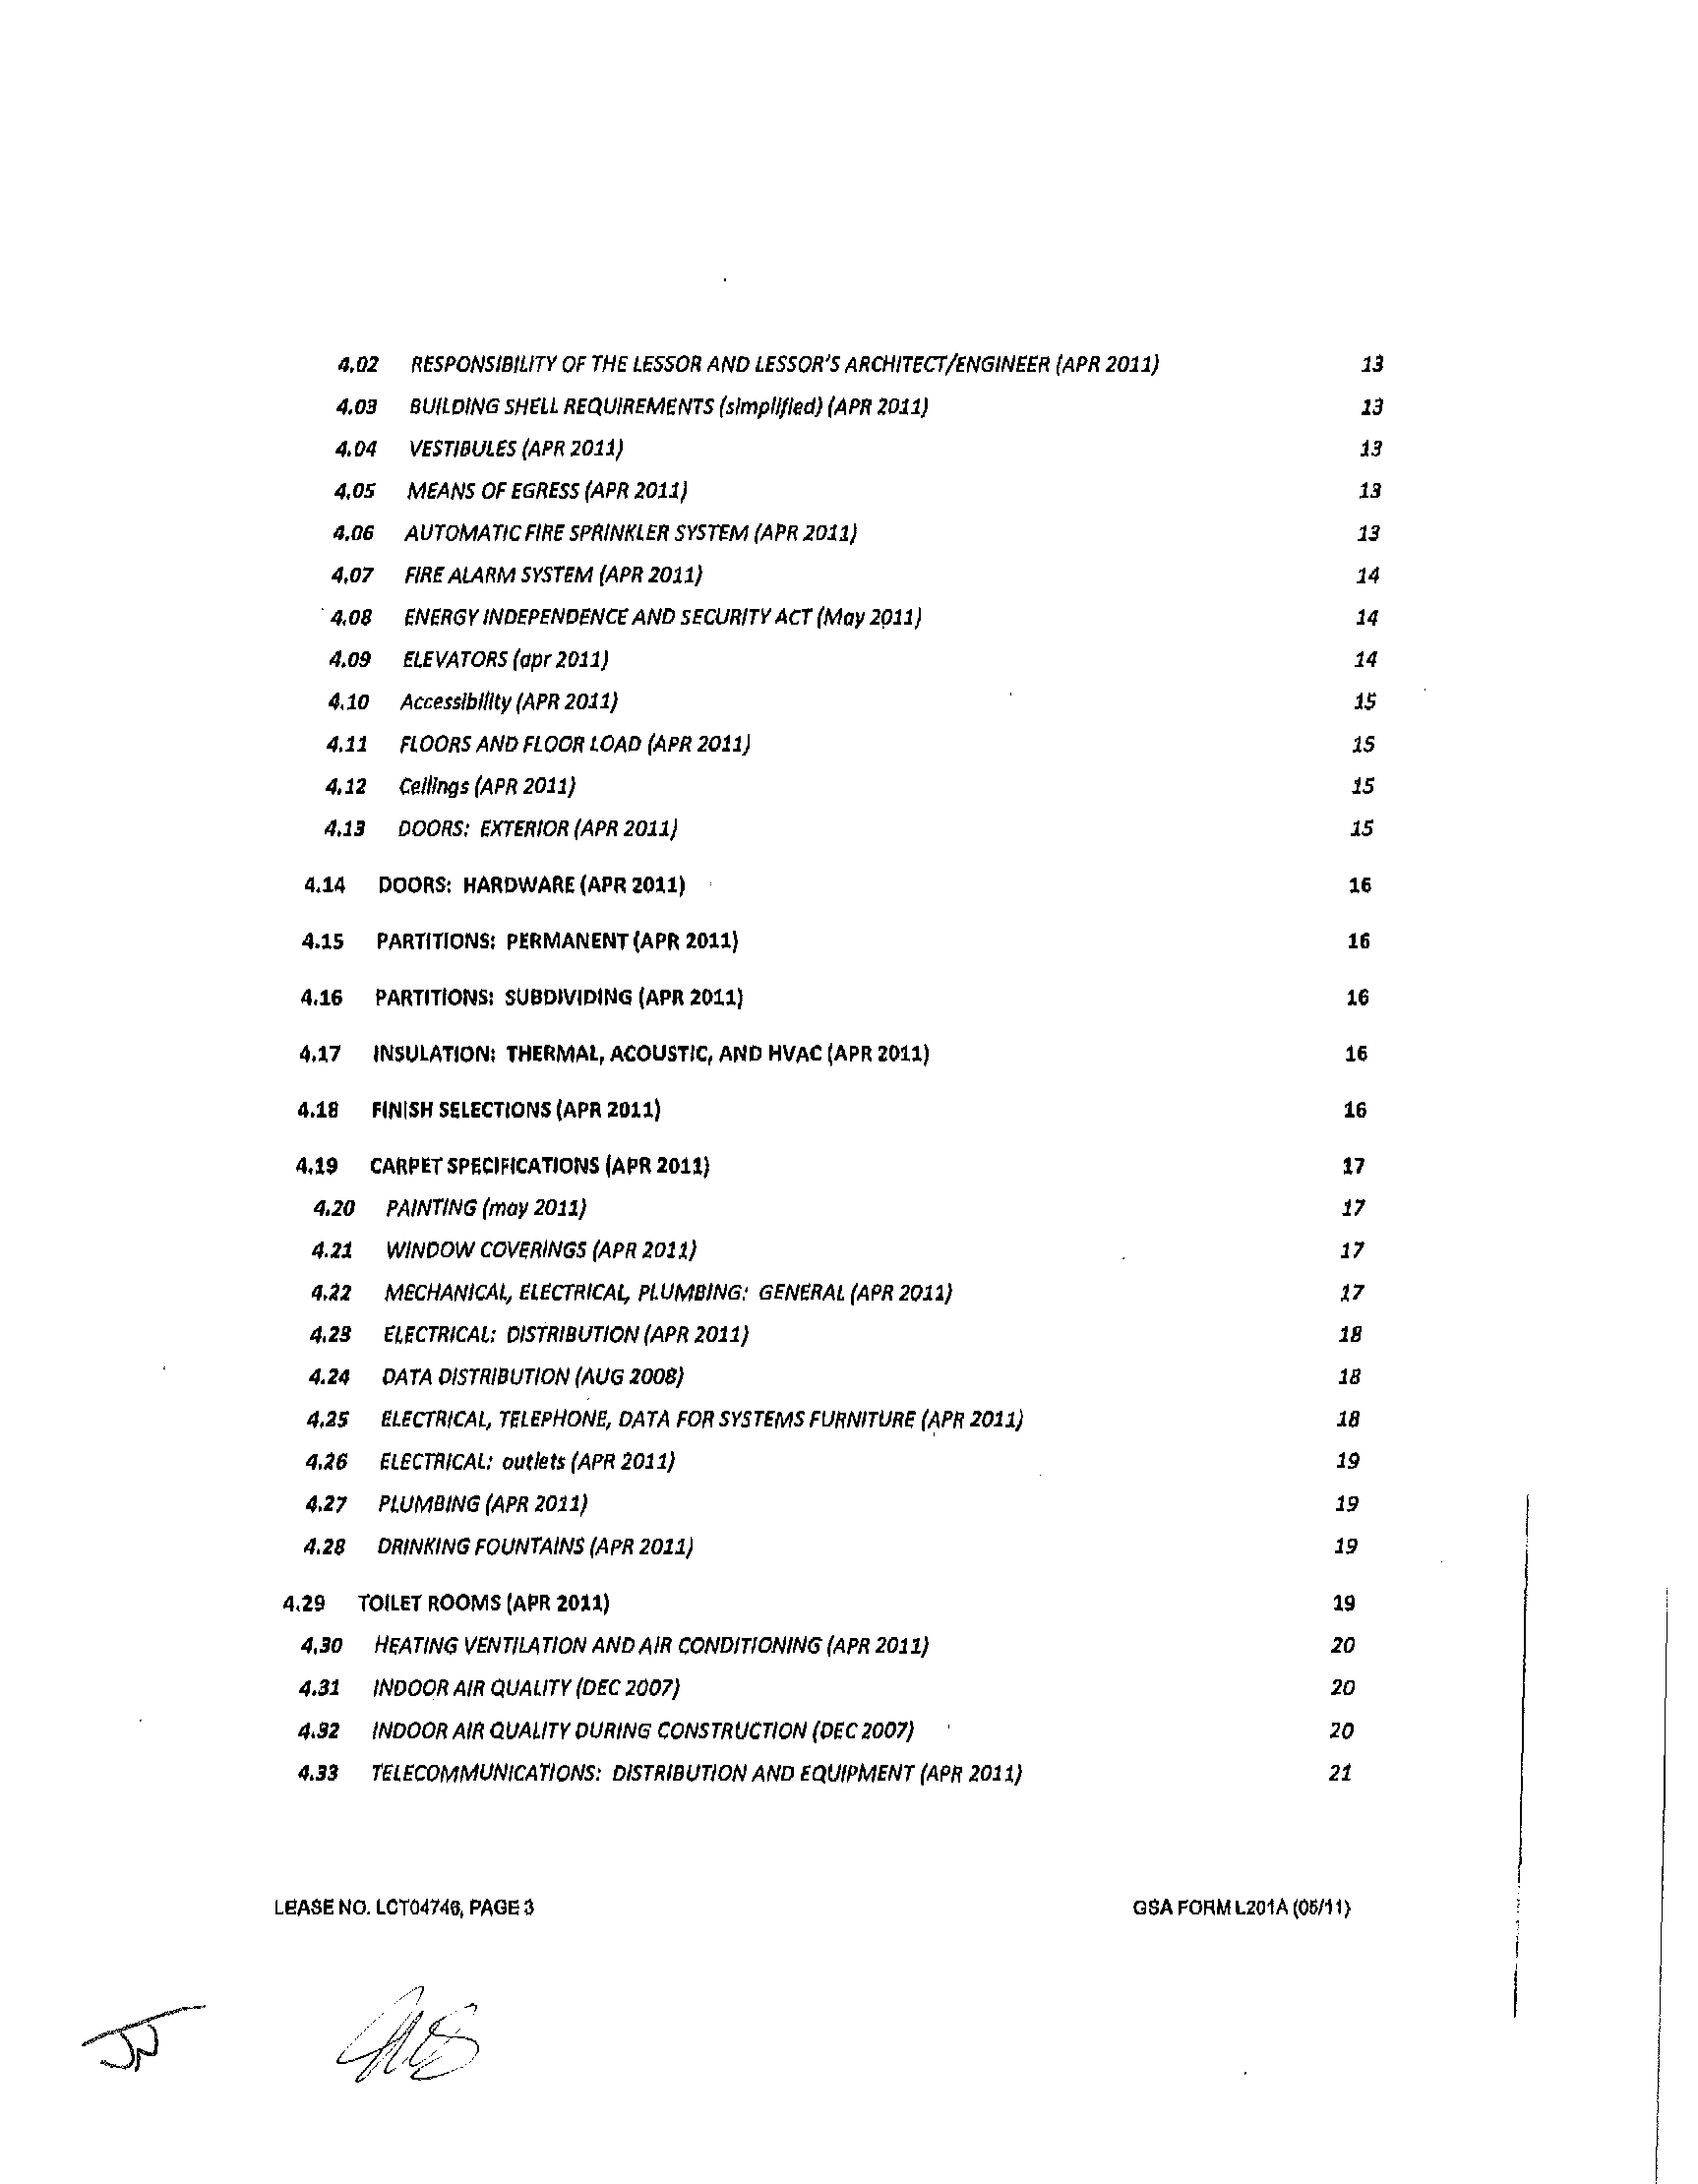handwritten: (319, 1962, 510, 2108), (57, 1993, 218, 2090)
